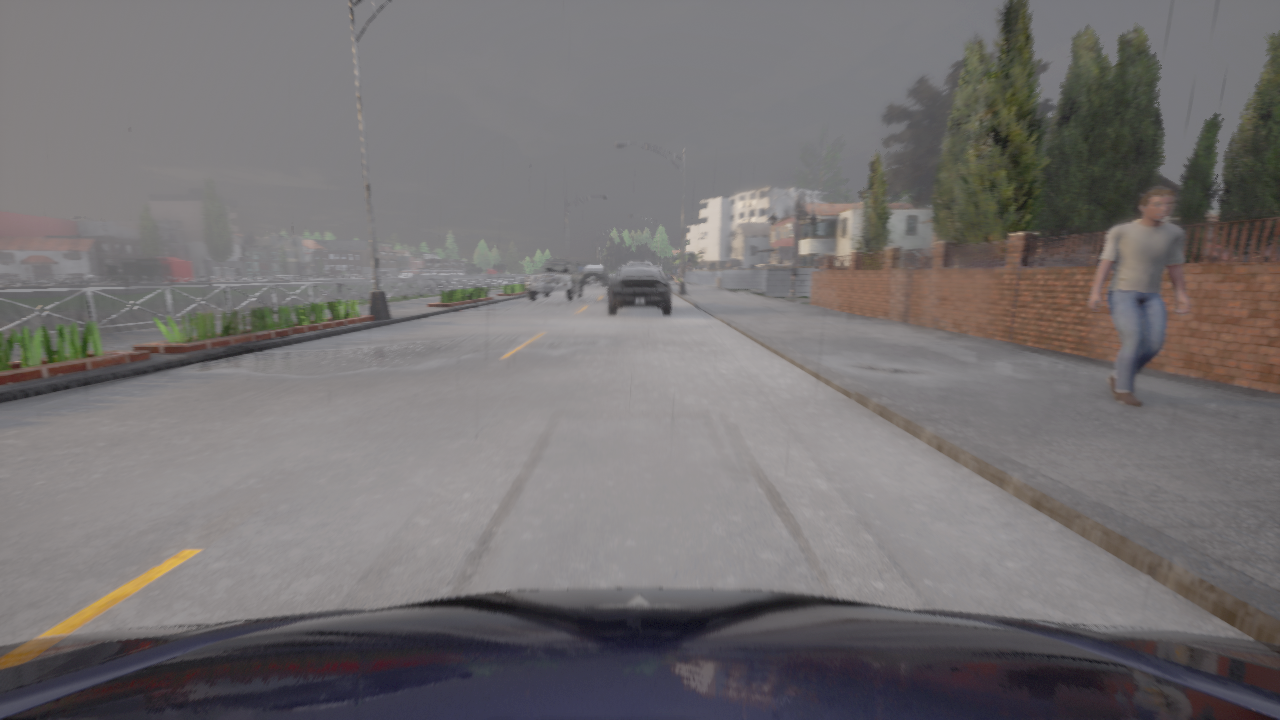cyclist: (0, 588, 1279, 719), (607, 264, 672, 314), (526, 259, 583, 301), (584, 264, 606, 278), (628, 261, 651, 264)
pedestrian: (1089, 188, 1190, 406)
